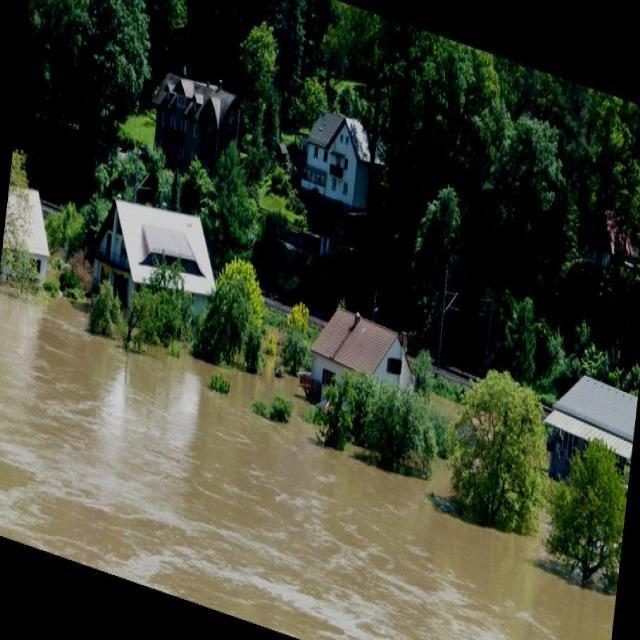flood: (0, 268, 628, 639)
